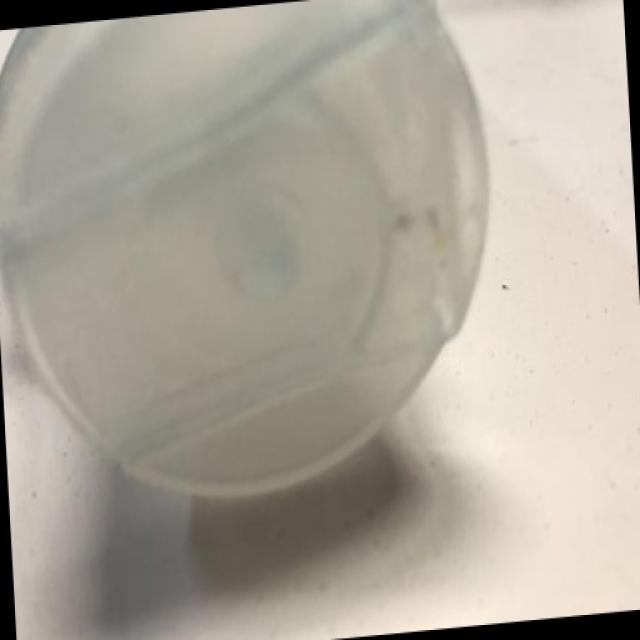plastico: (2, 11, 517, 527)
